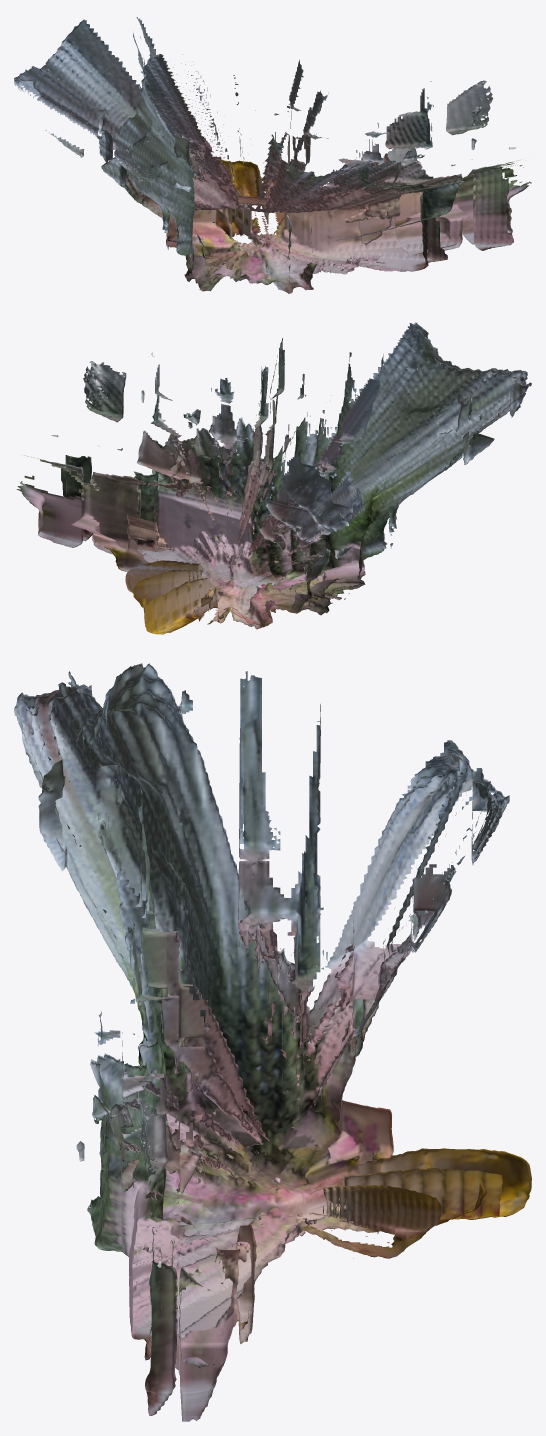
File: petal-fairy-patio-1-1-pano_collider.glb
3 views of the same model, one above another, from view 1: azimuth 30°, elevation 25°; view 2: azimuth 150°, elevation 25°; view 3: azimuth 270°, elevation 25° (orthographic). The views are drawn at different scales.
Visible parts, largest first — view 1: world; view 2: world; view 3: world.
Part boxes in pixels (box(x1,y1,x2,y2)): world: box(14, 17, 531, 293); world: box(16, 322, 531, 634); world: box(14, 663, 531, 1421).
Size of the model in its own units: 32.6 by 18.66 by 18.7.
